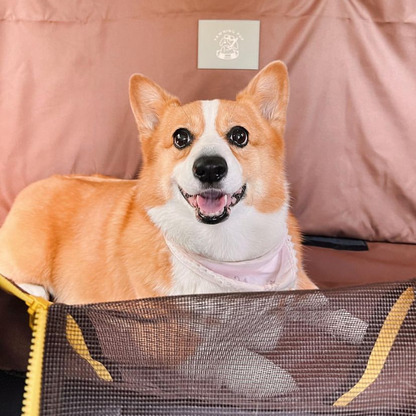Corgi: (98, 56, 306, 323)
